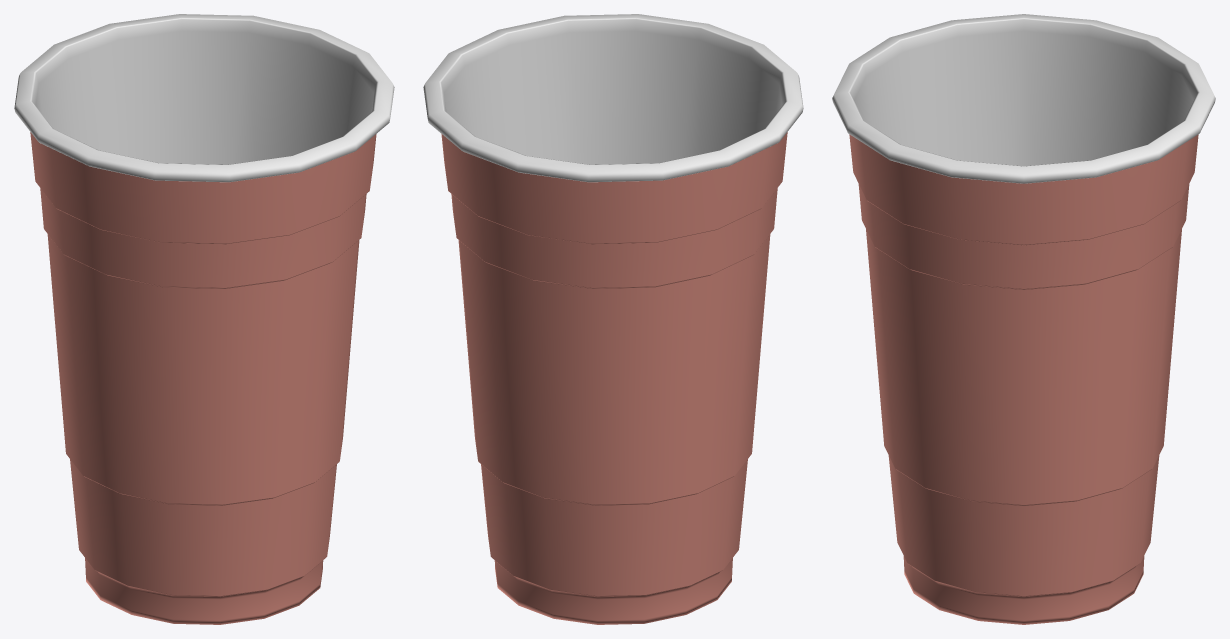
File: vaso.fbx
3 renders of one model, left to right at view 1: azimuth 30°, elevation 25°; view 2: azimuth 150°, elevation 25°; view 3: azimuth 270°, elevation 25°, orthographic.
Parts seen in each view (by area): view 1: vaso1; view 2: vaso1; view 3: vaso1.
Part boxes in pixels (x1,y1,x2,y2): vaso1: (14,14,394,624); vaso1: (423,14,803,624); vaso1: (832,14,1215,624).
Size of the model in its own units: 142 by 197 by 142.
